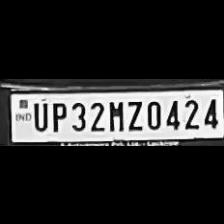0: (144, 97, 162, 129)
2: (86, 98, 106, 132), (181, 95, 199, 129)
3: (68, 98, 86, 132)
4: (200, 94, 220, 128), (162, 96, 180, 128)
M: (104, 96, 124, 132)
P: (47, 98, 67, 132)
U: (29, 97, 48, 130)
Z: (124, 97, 142, 131)
